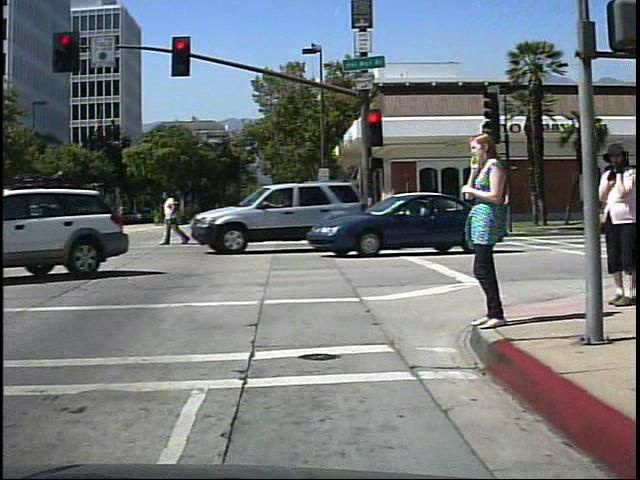person: (459, 124, 516, 334), (590, 134, 637, 316)
